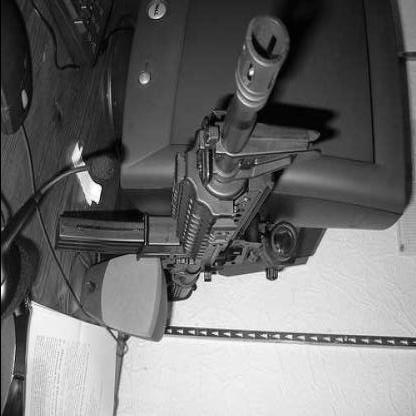rifle: (46, 7, 323, 335)
